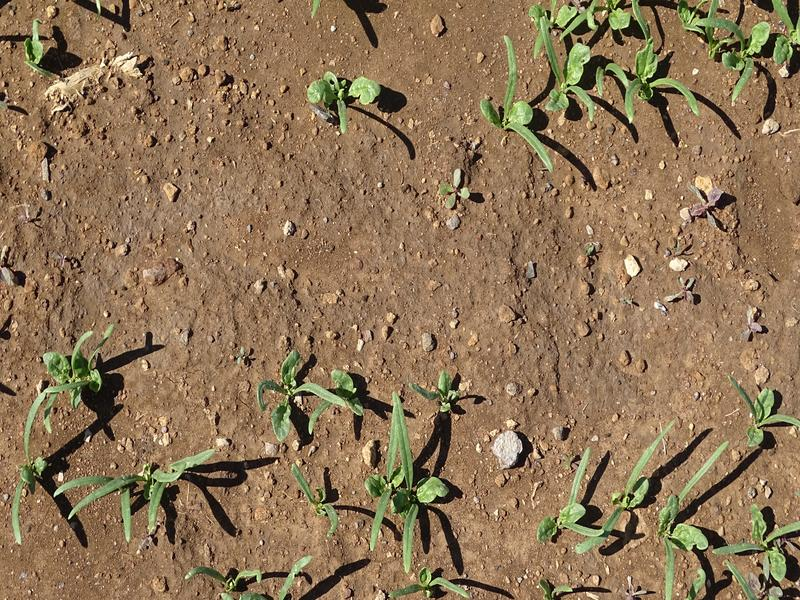Espinaca: (538, 390, 795, 596), (488, 1, 799, 161), (254, 368, 441, 562), (10, 447, 213, 533), (20, 323, 126, 434), (205, 568, 473, 600), (309, 63, 380, 135), (19, 22, 62, 77)
